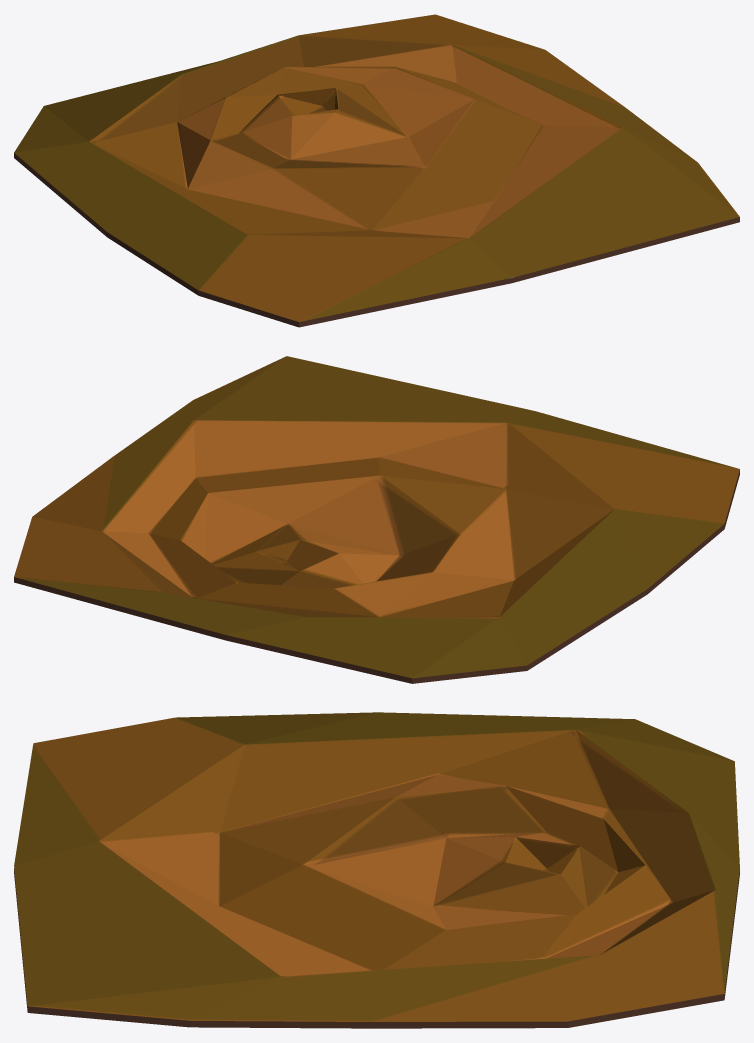
The model's file is MudAnimated01.fbx.
3 renders of one model, top to bottom at view 1: azimuth 30°, elevation 25°; view 2: azimuth 150°, elevation 25°; view 3: azimuth 270°, elevation 25°, orthographic. The views are drawn at different scales.
Parts seen in each view (by area): view 1: Circle.006; view 2: Circle.006; view 3: Circle.006.
Boxes of the visible parts, x1=… form: Circle.006: x1=14, y1=14, x2=739, y2=327; Circle.006: x1=14, y1=356, x2=739, y2=683; Circle.006: x1=14, y1=712, x2=739, y2=1028.
Bounding box in the file's own units: 101 × 4.22 × 100.
